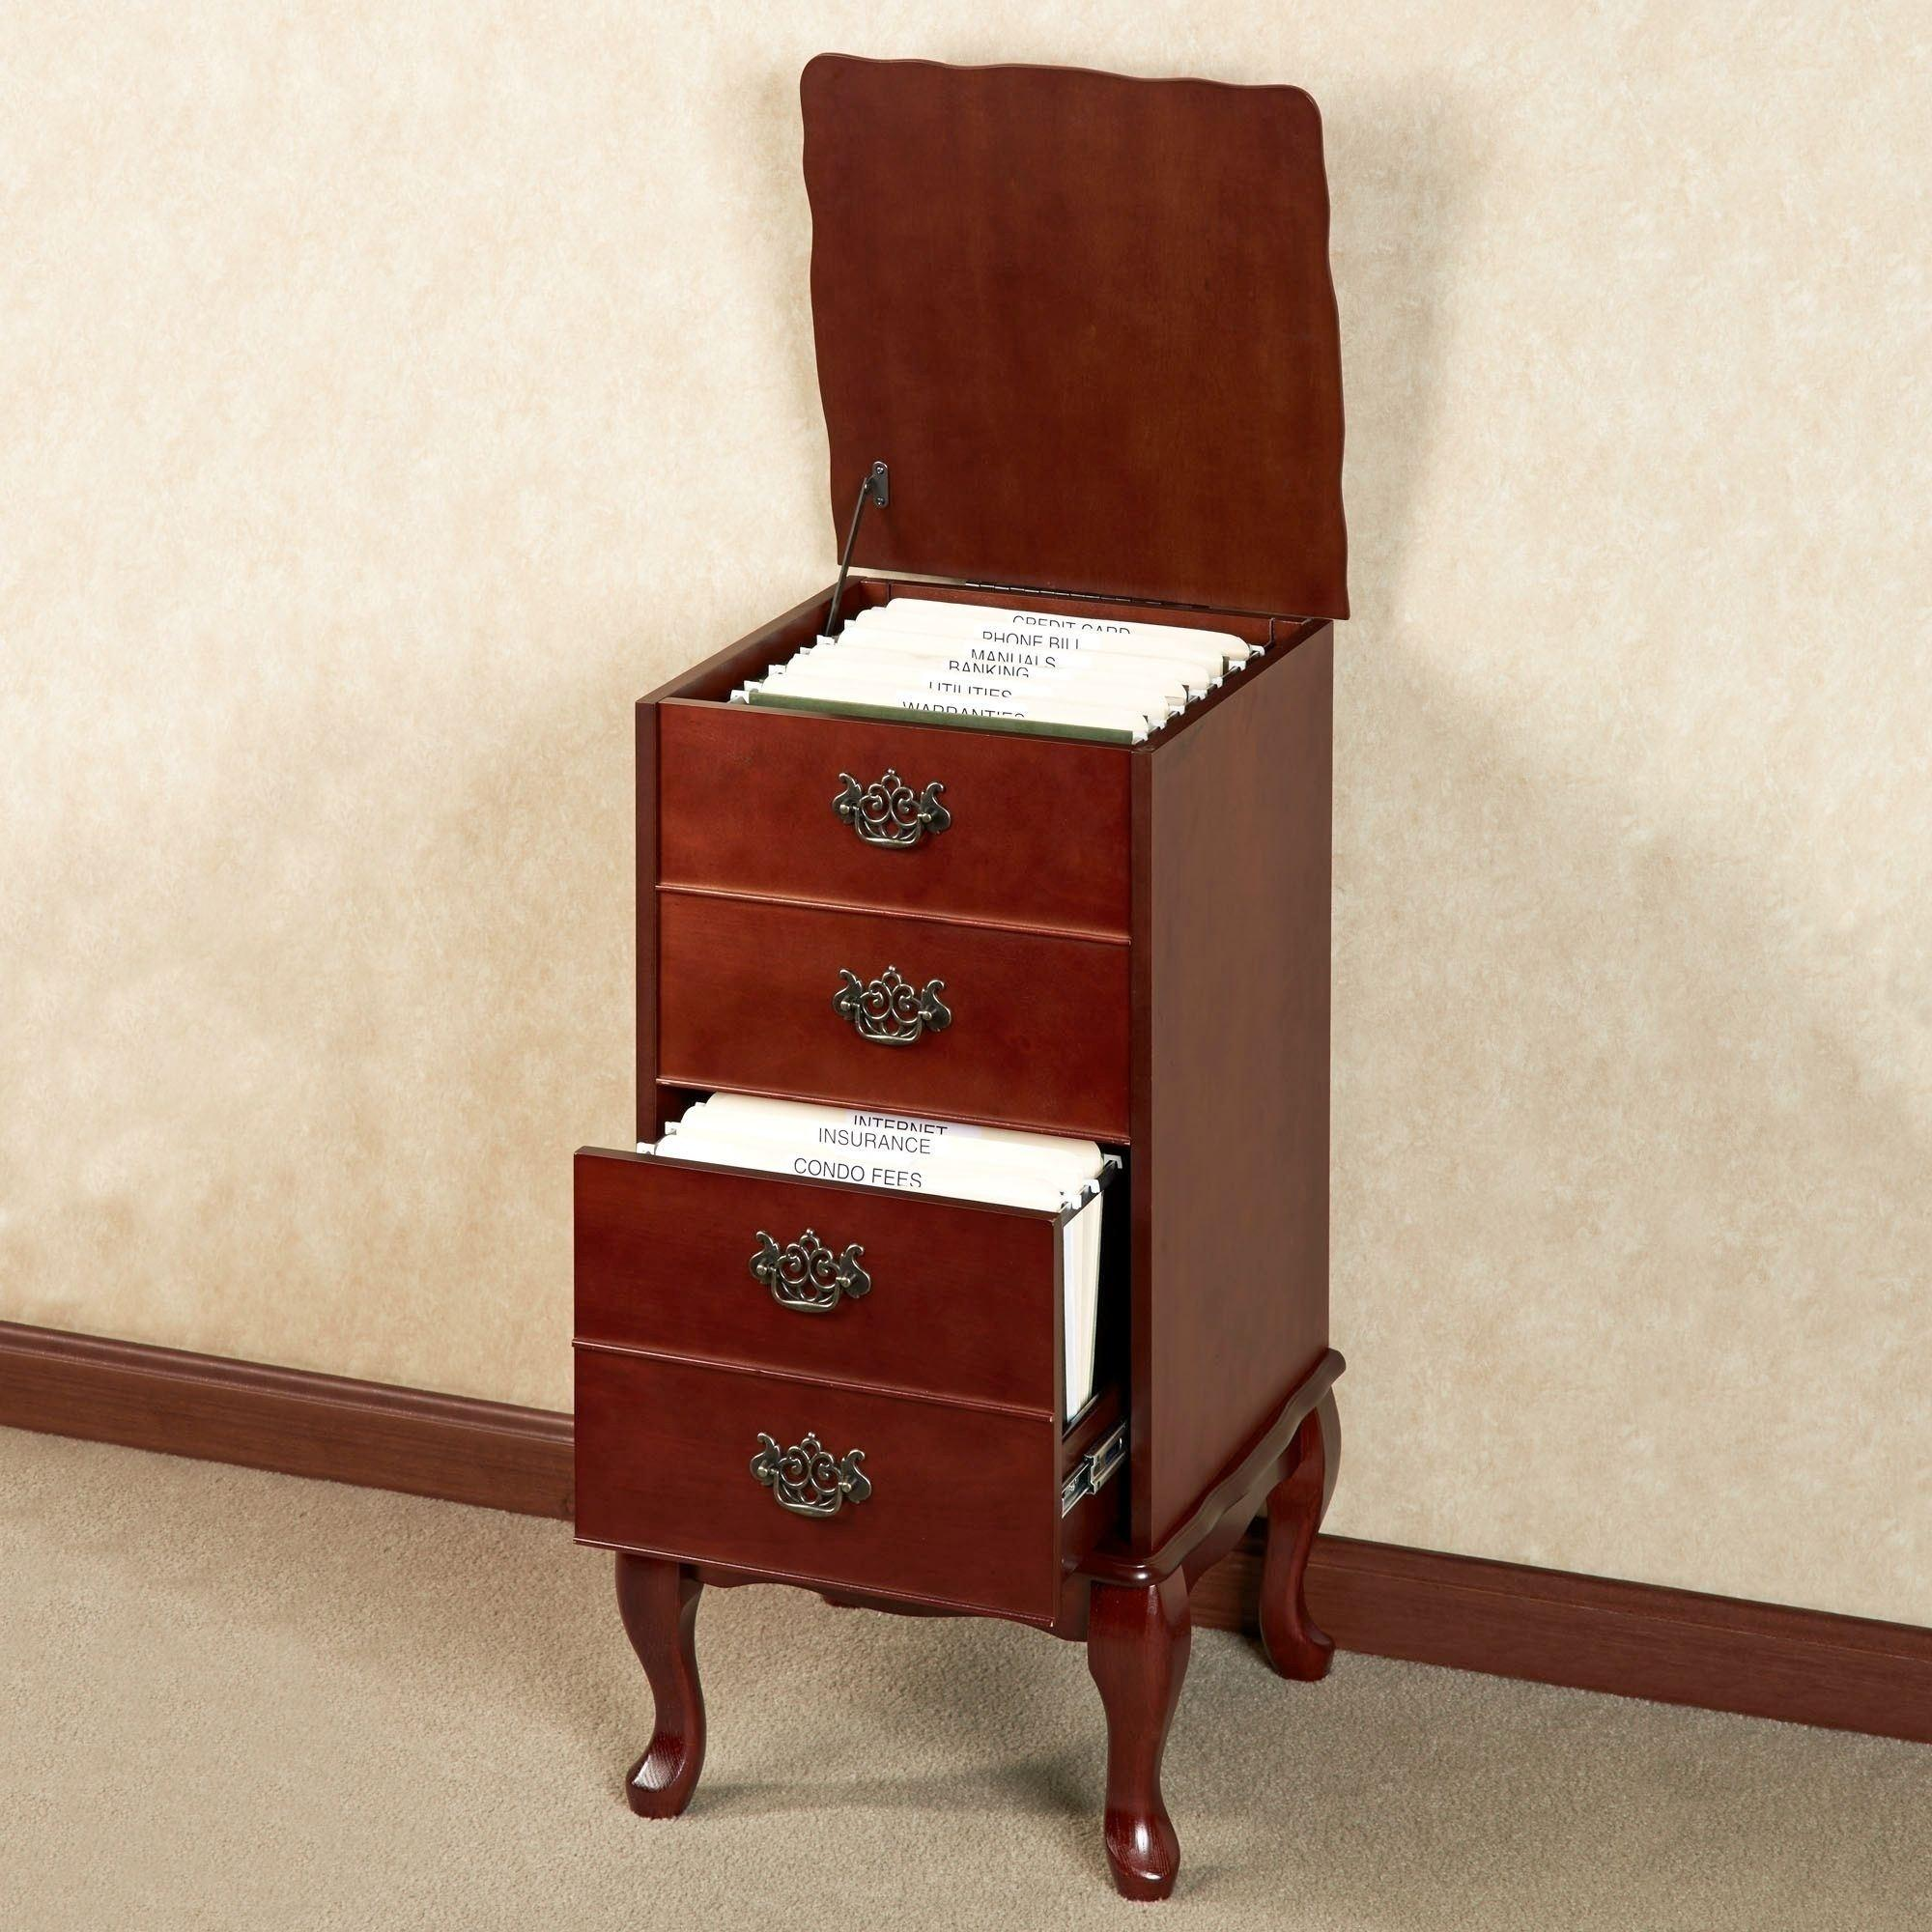cabinet_door: (579, 1387, 1039, 1564), (586, 1178, 1051, 1348), (663, 918, 1109, 1092), (660, 722, 1113, 886)
handle: (752, 1447, 872, 1537), (752, 1249, 867, 1327), (840, 989, 948, 1065), (840, 793, 943, 865)
